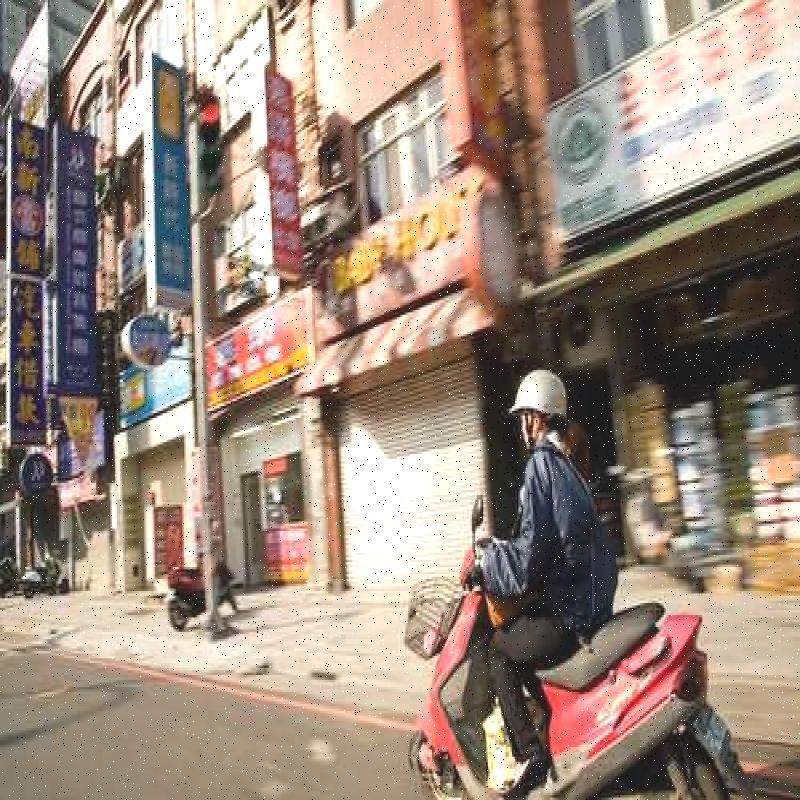bike: (413, 494, 728, 800)
